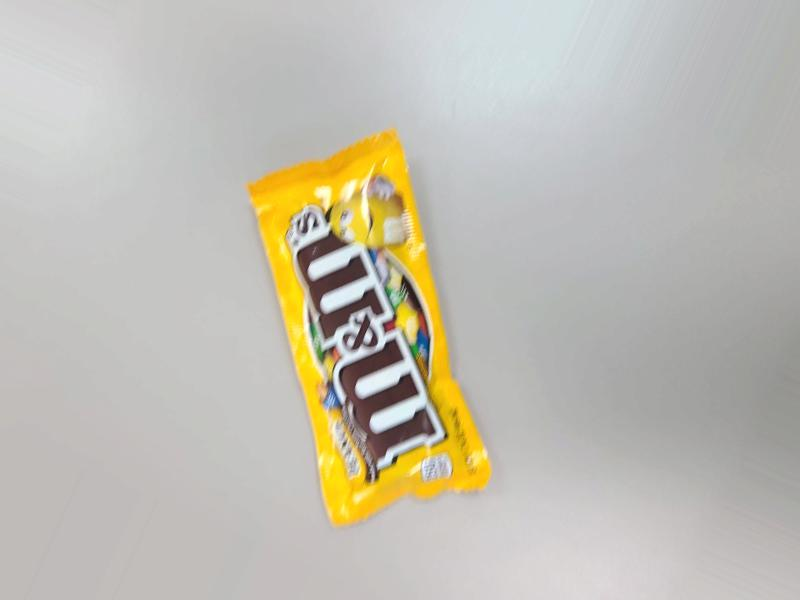m&m: (230, 150, 423, 514)
